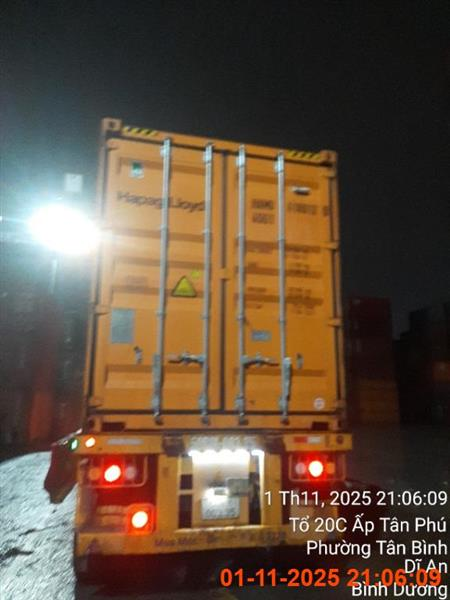broken: (63, 119, 353, 581)
